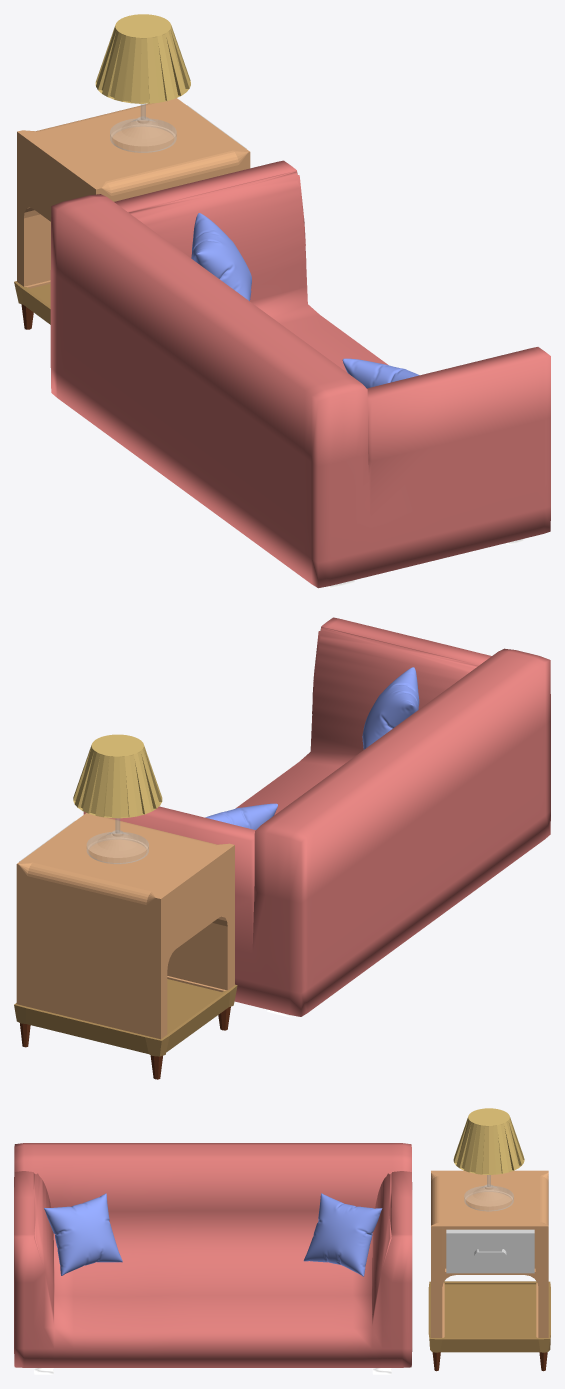
Rendered from living_room.glb.
3 views of the same model, one above another, from view 1: azimuth 30°, elevation 25°; view 2: azimuth 150°, elevation 25°; view 3: azimuth 270°, elevation 25° (orthographic). The views are drawn at different scales.
Parts seen in each view (by area): view 1: Cube.001, Cube.006, Circle, Plane.001, Plane; view 2: Cube.001, Cube.006, Circle, Plane, Plane.001; view 3: Cube.001, Cube.006, Circle, Plane, Plane.001.
Part boxes in pixels (x1,y1,x2,y2): Cube.001: (50, 160, 550, 588); Cube.006: (14, 98, 250, 329); Circle: (95, 14, 190, 152); Plane.001: (191, 213, 251, 301); Plane: (342, 358, 419, 388); Cube.001: (83, 617, 550, 1017); Cube.006: (14, 813, 237, 1079); Circle: (73, 734, 162, 863); Plane: (362, 667, 419, 749); Plane.001: (205, 803, 277, 829); Cube.001: (14, 1143, 412, 1374); Cube.006: (428, 1170, 550, 1371); Circle: (453, 1108, 524, 1211); Plane: (44, 1193, 122, 1275); Plane.001: (303, 1193, 382, 1276).
Bounding box in the file's own units: 5.37 × 6.78 × 14.33.
